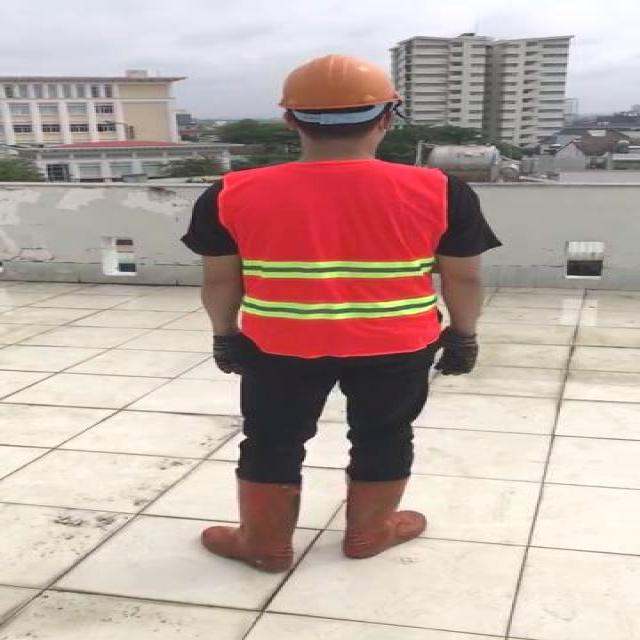boots: (202, 477, 306, 573), (338, 474, 427, 560)
hand_glove: (432, 329, 478, 377), (210, 334, 249, 376)
head_helmet: (270, 51, 402, 116)
person: (159, 49, 506, 578)
vest: (231, 162, 453, 354)
